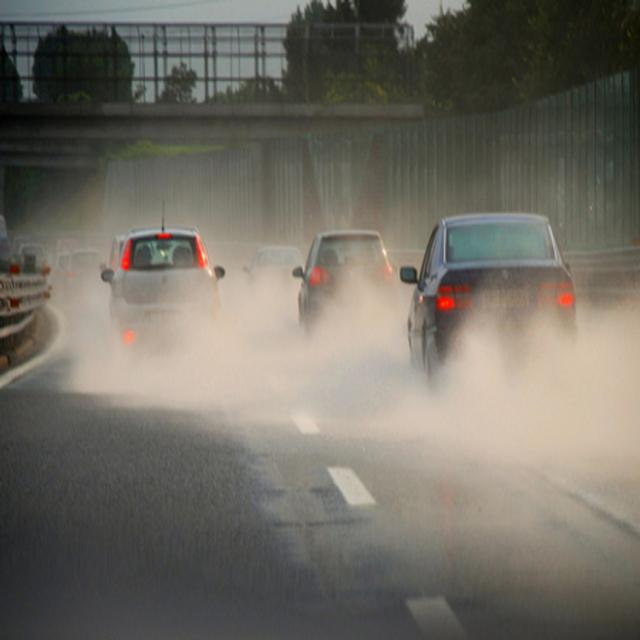car: (401, 214, 577, 387), (101, 228, 223, 341), (295, 230, 399, 336), (241, 238, 304, 306), (65, 247, 107, 304)
